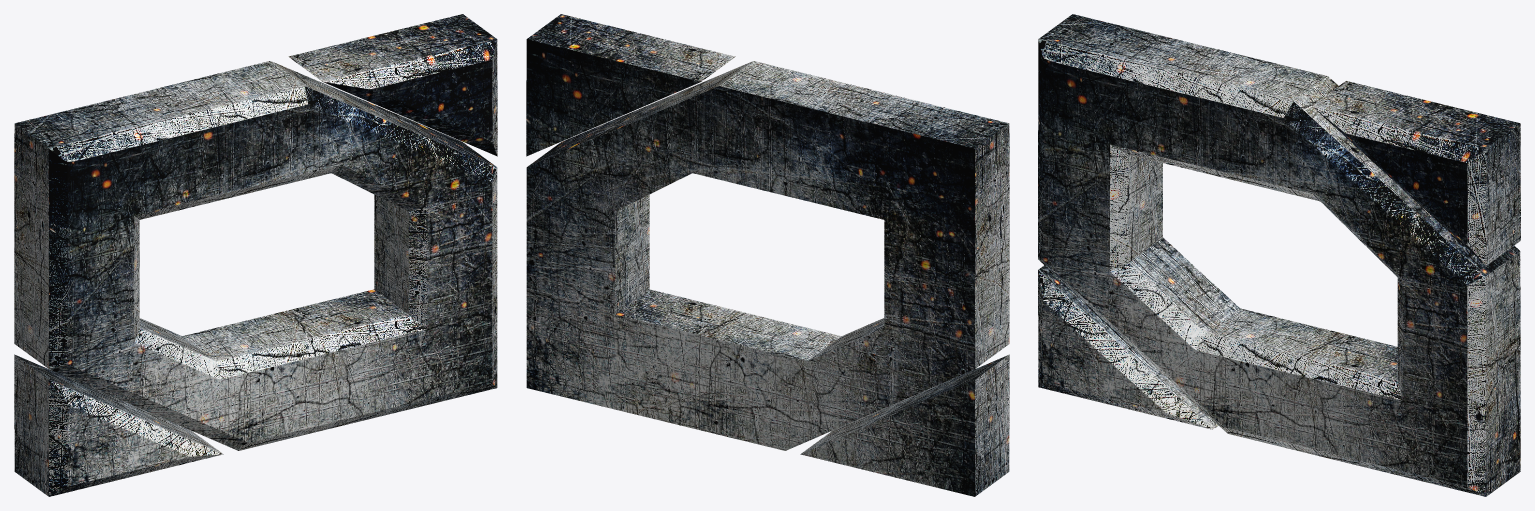
The picture shows the model from 3 angles, left to right: view 1: azimuth 30°, elevation 25°; view 2: azimuth 150°, elevation 25°; view 3: azimuth 330°, elevation 25°; orthographic projection.
Visible parts, largest first — view 1: O; view 2: O; view 3: O.
Boxes of the visible parts, x1,y1,x2,y2 form: O: (14, 14, 497, 496); O: (526, 14, 1009, 496); O: (1038, 14, 1520, 496).
Bounding box in the file's own units: 75.18 × 55.85 × 12.
Materials: 1 (1 with a texture image).
